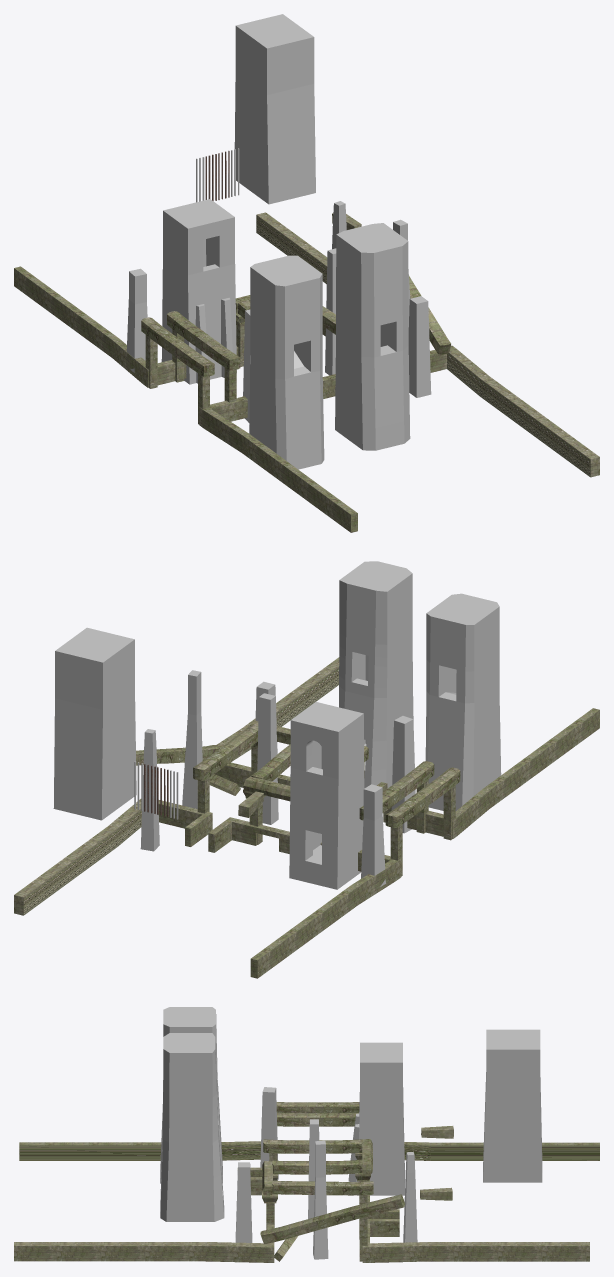
Rendered from SM_Chateaux_05_02.fbx.
3 views of the same model, one above another, from view 1: azimuth 30°, elevation 25°; view 2: azimuth 150°, elevation 25°; view 3: azimuth 270°, elevation 25° (orthographic). The views are drawn at different scales.
Visible parts, largest first — view 1: SM_Chateaux_05_02; view 2: SM_Chateaux_05_02; view 3: SM_Chateaux_05_02.
Part boxes in pixels (bbox=[...]): SM_Chateaux_05_02: bbox=[14, 14, 599, 532]; SM_Chateaux_05_02: bbox=[14, 561, 599, 978]; SM_Chateaux_05_02: bbox=[14, 1007, 599, 1262].
Bounding box in the file's own units: 3436 × 3101 × 7834.
